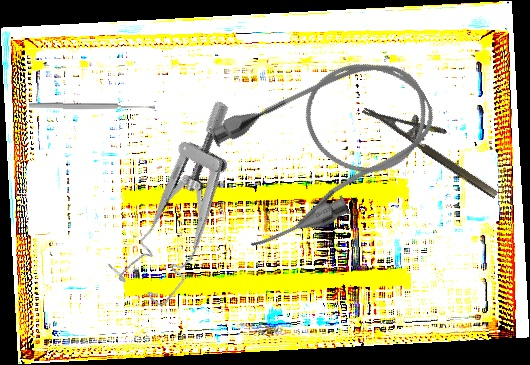Cannula: (195, 34, 458, 260)
Needle Holder: (361, 85, 511, 201)
Speculum: (91, 97, 286, 313)
Surgical Spoon: (28, 101, 156, 112)
